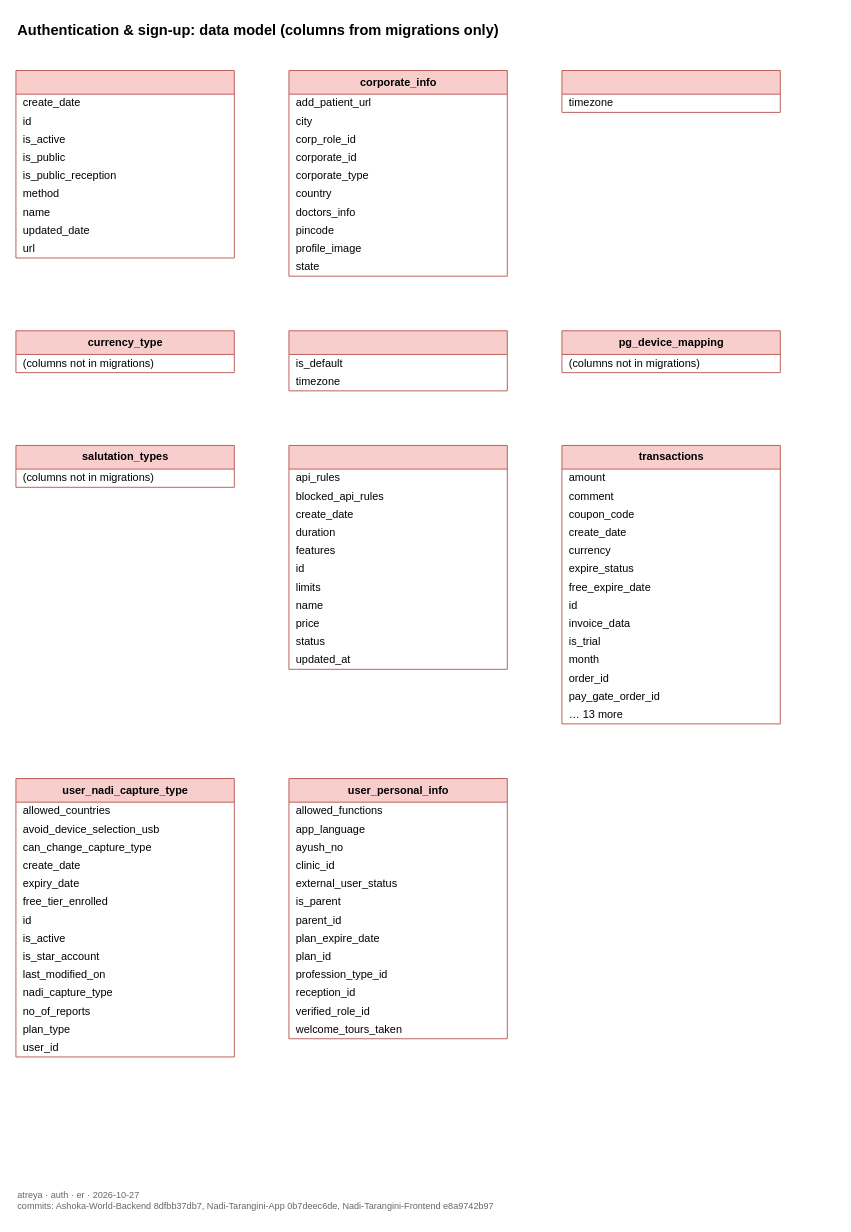
The diagram is 851 pixels wide and 1232 high, and some of its shapes have lost their labels. The box of each missing label's shape, as (x1, y1, x2, y2) in pixels:
api_endpoints: (15, 70, 234, 258)
country_wise_states: (561, 70, 780, 112)
locality_info: (288, 330, 507, 391)
subscriptions: (288, 445, 507, 669)
